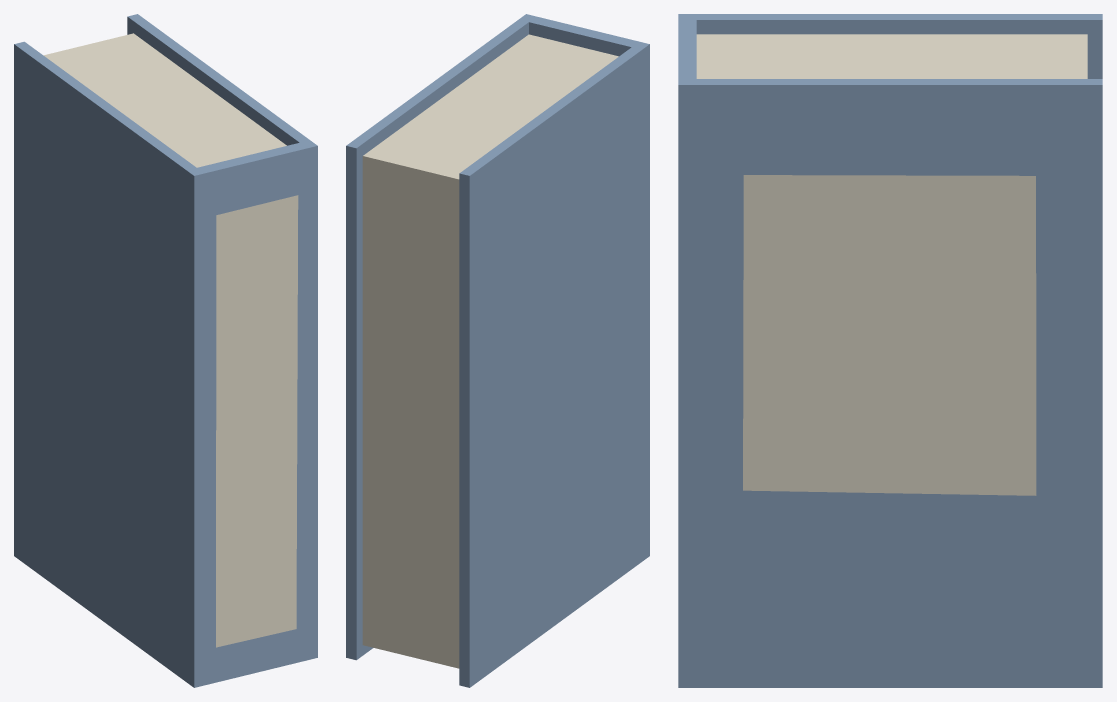
The model's file is book14.fbx.
3 renders of one model, left to right at view 1: azimuth 30°, elevation 25°; view 2: azimuth 150°, elevation 25°; view 3: azimuth 270°, elevation 25°, orthographic. The views are drawn at different scales.
Parts seen in each view (by area): view 1: Boole_4; view 2: Boole_4; view 3: Boole_4.
Boxes of the visible parts, x1,y1,x2,y2 form: Boole_4: (14,14,317,687); Boole_4: (346,14,649,687); Boole_4: (678,14,1102,687).
Bounding box in the file's own units: 11.73 × 46.4 × 29.58.
